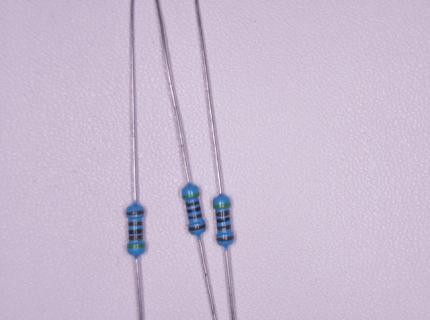Black band: (216, 216, 231, 223), (129, 229, 143, 235), (188, 206, 200, 213)
Brown band: (189, 224, 206, 231), (186, 200, 199, 207), (126, 210, 144, 215), (129, 235, 143, 241), (217, 236, 233, 241), (189, 213, 202, 219), (218, 224, 231, 230), (217, 210, 229, 216), (129, 222, 143, 226)
Green band: (183, 192, 199, 199), (213, 203, 231, 209), (128, 244, 144, 249)
